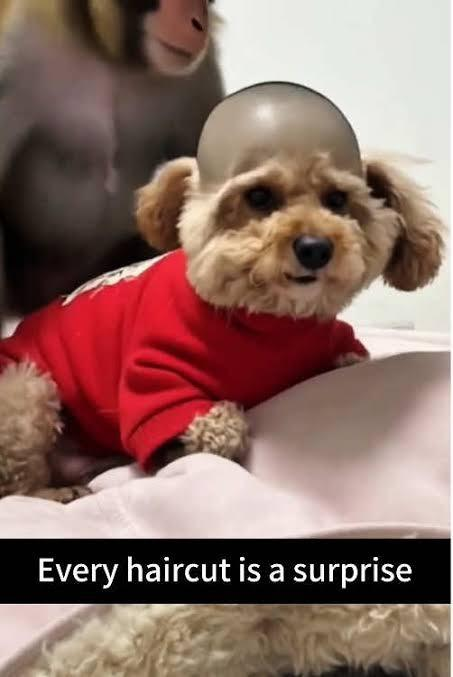adult_dog: (0, 78, 447, 505)
non-dog: (1, 1, 233, 331)
